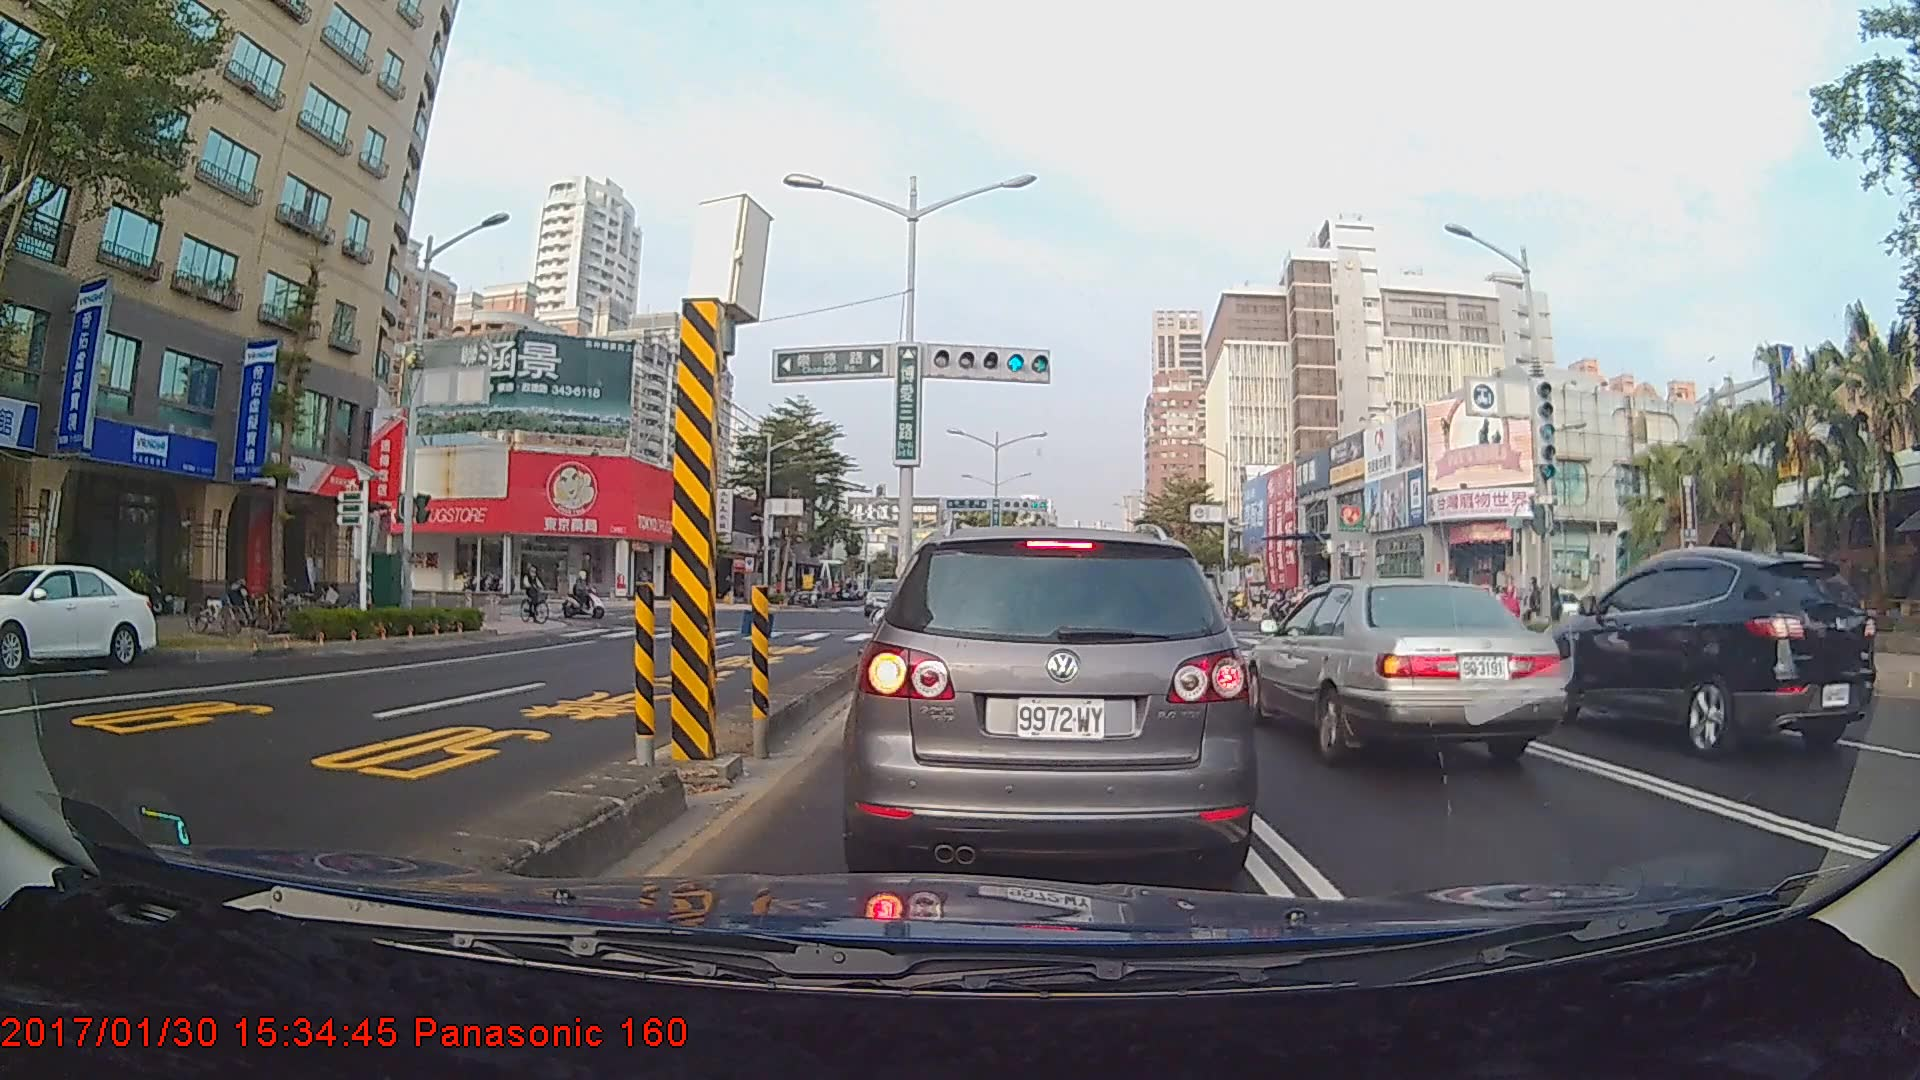rider: (518, 559, 561, 629), (564, 568, 615, 625)
vehicle: (850, 523, 1249, 883), (1541, 545, 1877, 759), (1245, 574, 1568, 761), (0, 561, 162, 671), (862, 577, 915, 618)
